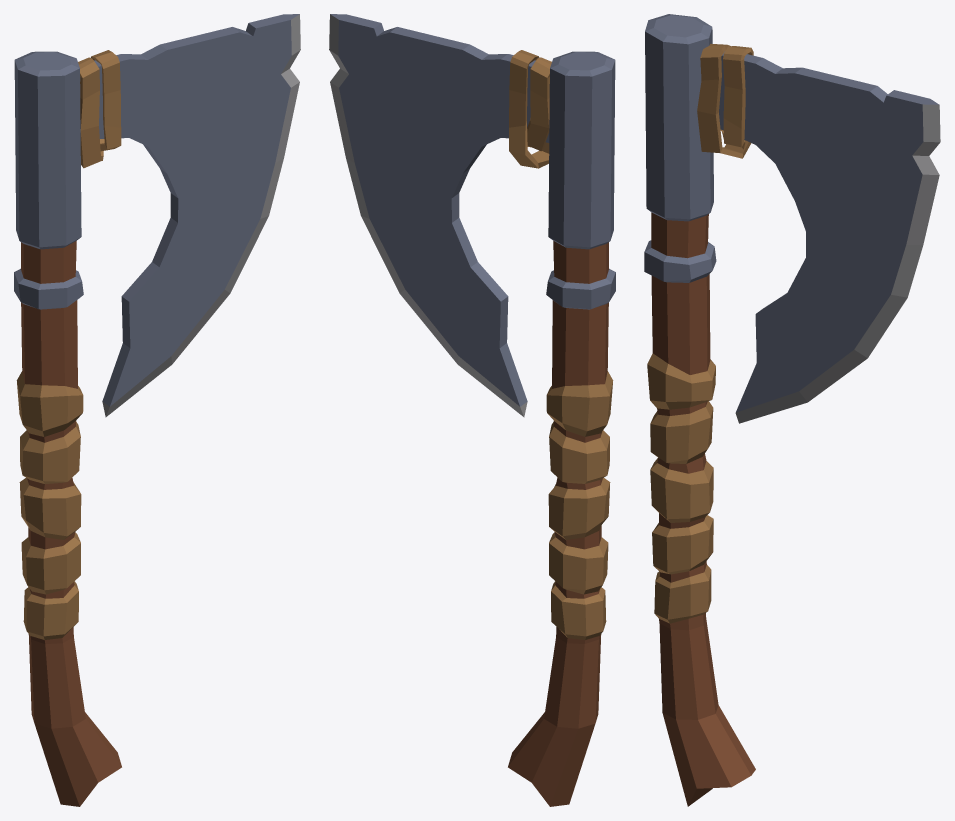
The model's file is HachaPequeña 1.fbx.
3 views of the same model, side by side, from view 1: azimuth 30°, elevation 25°; view 2: azimuth 150°, elevation 25°; view 3: azimuth 330°, elevation 25° (orthographic). The views are drawn at different scales.
Parts seen in each view (by area): view 1: Axe_small; view 2: Axe_small; view 3: Axe_small.
Part boxes in pixels (x1=…): Axe_small: x1=14, y1=14, x2=300, y2=806; Axe_small: x1=329, y1=14, x2=615, y2=806; Axe_small: x1=644, y1=14, x2=940, y2=806.
Size of the model in its own units: 62.36 by 157 by 13.22.
